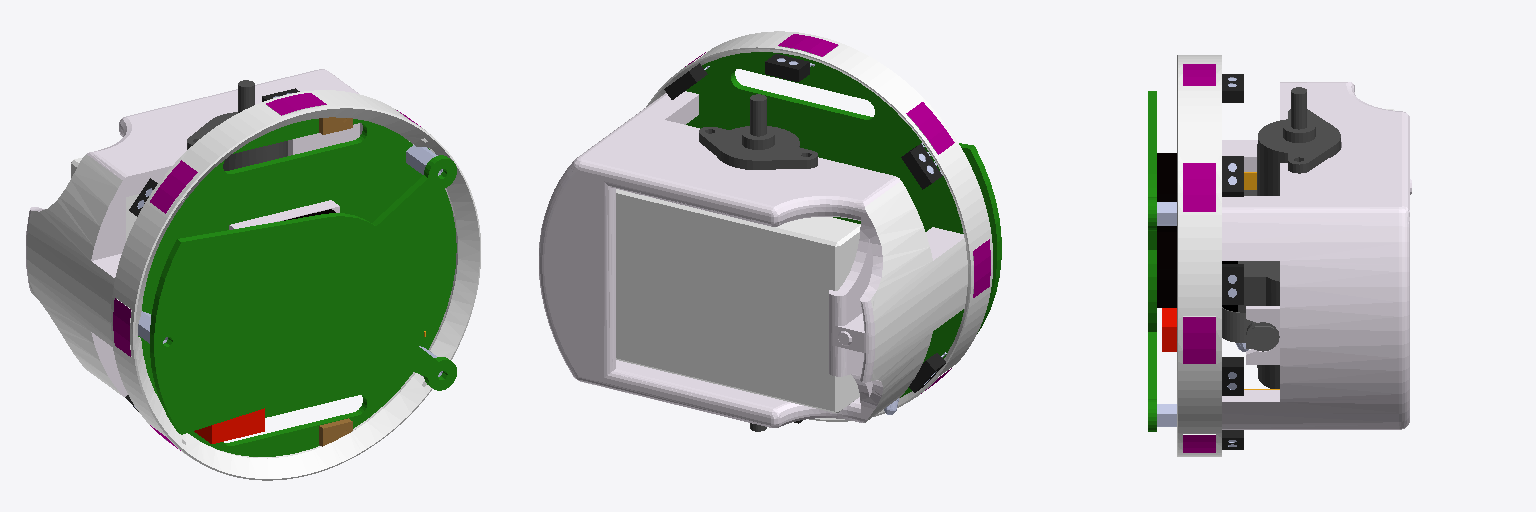
File: pipuck.obj
3 views of the same model, side by side, from view 1: azimuth 30°, elevation 25°; view 2: azimuth 150°, elevation 25°; view 3: azimuth 270°, elevation 25° (orthographic).
Visible parts, largest first — view 1: mesh 8 epuck_base-1-solid22 face, mesh 13 epuck_base-1-solid9 face, mesh 24 epuck_base-1-solid19 face, mesh 23 CirPattern1 face, mesh 10 epuck_base-1-solid29 face, mesh 12 epuck_base-1-solid33 face, mesh 9 epuck_base-1-solid11 face, mesh 15 epuck_base-1-solid3 face, mesh 1 Base, mesh 11 epuck_base-1-solid24 face, mesh 14 epuck_base-1-solid26 face, mesh 16 epuck_base-1-solid34 face; view 2: mesh 13 epuck_base-1-solid9 face, mesh 23 CirPattern1 face, mesh 8 epuck_base-1-solid22 face, mesh 24 epuck_base-1-solid19 face, mesh 10 epuck_base-1-solid29 face, mesh 4 epuck_base-1-solid17 face, mesh 15 epuck_base-1-solid3 face, mesh 14 epuck_base-1-solid26 face, mesh 16 epuck_base-1-solid34 face; view 3: mesh 23 CirPattern1 face, mesh 13 epuck_base-1-solid9 face, mesh 10 epuck_base-1-solid29 face, mesh 4 epuck_base-1-solid17 face, mesh 8 epuck_base-1-solid22 face, mesh 5 epuck_base-1-solid20 face, mesh 17 epuck_base-1-solid15 face, mesh 22 CirPattern1, mesh 18 epuck_base-1-solid5 face, mesh 1 Base, mesh 16 epuck_base-1-solid34 face, mesh 12 epuck_base-1-solid33 face (+1 smaller).
Boxes of the visible parts, x1=… form: mesh 8 epuck_base-1-solid22 face: x1=138, y1=119, x2=456, y2=456; mesh 13 epuck_base-1-solid9 face: x1=71, y1=90, x2=480, y2=480; mesh 24 epuck_base-1-solid19 face: x1=27, y1=154, x2=122, y2=394; mesh 23 CirPattern1 face: x1=26, y1=69, x2=362, y2=396; mesh 10 epuck_base-1-solid29 face: x1=187, y1=80, x2=287, y2=170; mesh 12 epuck_base-1-solid33 face: x1=194, y1=408, x2=264, y2=443; mesh 9 epuck_base-1-solid11 face: x1=319, y1=117, x2=352, y2=446; mesh 15 epuck_base-1-solid3 face: x1=150, y1=160, x2=197, y2=213; mesh 1 Base: x1=134, y1=93, x2=442, y2=440; mesh 11 epuck_base-1-solid24 face: x1=229, y1=200, x2=339, y2=229; mesh 14 epuck_base-1-solid26 face: x1=113, y1=298, x2=130, y2=356; mesh 16 epuck_base-1-solid34 face: x1=266, y1=93, x2=326, y2=115; mesh 13 epuck_base-1-solid9 face: x1=616, y1=31, x2=992, y2=421; mesh 23 CirPattern1 face: x1=539, y1=91, x2=963, y2=427; mesh 8 epuck_base-1-solid22 face: x1=686, y1=52, x2=1001, y2=397; mesh 24 epuck_base-1-solid19 face: x1=865, y1=181, x2=967, y2=422; mesh 10 epuck_base-1-solid29 face: x1=699, y1=94, x2=817, y2=431; mesh 4 epuck_base-1-solid17 face: x1=664, y1=54, x2=945, y2=423; mesh 15 epuck_base-1-solid3 face: x1=906, y1=102, x2=954, y2=154; mesh 14 epuck_base-1-solid26 face: x1=973, y1=239, x2=990, y2=297; mesh 16 epuck_base-1-solid34 face: x1=778, y1=34, x2=837, y2=56; mesh 23 CirPattern1 face: x1=1222, y1=82, x2=1411, y2=429; mesh 13 epuck_base-1-solid9 face: x1=1177, y1=55, x2=1394, y2=456; mesh 10 epuck_base-1-solid29 face: x1=1238, y1=87, x2=1340, y2=388; mesh 4 epuck_base-1-solid17 face: x1=1222, y1=74, x2=1243, y2=449; mesh 8 epuck_base-1-solid22 face: x1=1148, y1=91, x2=1156, y2=431; mesh 5 epuck_base-1-solid20 face: x1=1157, y1=153, x2=1176, y2=307; mesh 17 epuck_base-1-solid15 face: x1=1183, y1=163, x2=1215, y2=211; mesh 22 CirPattern1: x1=1222, y1=307, x2=1279, y2=351; mesh 18 epuck_base-1-solid5 face: x1=1183, y1=317, x2=1215, y2=363; mesh 1 Base: x1=1157, y1=77, x2=1248, y2=446; mesh 16 epuck_base-1-solid34 face: x1=1183, y1=64, x2=1215, y2=85; mesh 12 epuck_base-1-solid33 face: x1=1162, y1=308, x2=1176, y2=351.
Size of the model in its own units: 0.0725 by 0.0725 by 0.0475.